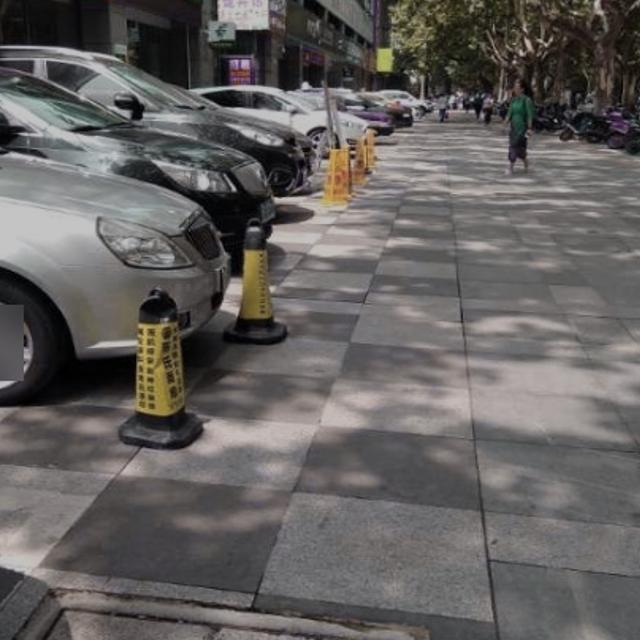broke: (0, 588, 432, 640)
